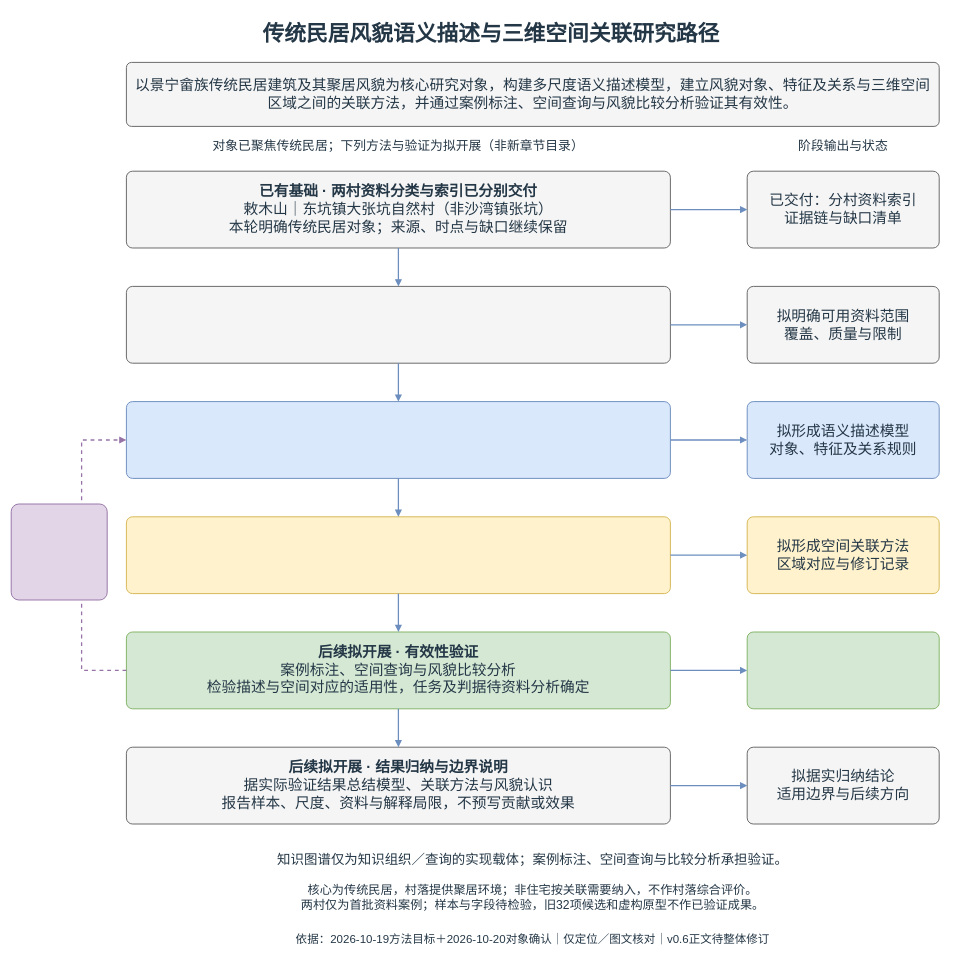
The diagram is 957 pixels wide and 963 high, and some of its shapes have lost their labels. Each missing label, with the box of its shape:
反馈优化 语义模型 区域关联 证据核查: (10, 503, 107, 600)
后续拟开展 · 三维空间区域关联方法 关联民居风貌对象、特征及关系与三维空间区域 以资料分析与试建检验可达程度，再优化模型和关联规则: (126, 516, 671, 594)
后续拟开展 · 传统民居的多尺度语义描述模型 村落：聚居环境｜组团：空间组合｜单体：建筑特征 按研究作用筛选特征；证据必录，字段与深度经试采修订: (126, 401, 671, 479)
后续拟开展 · 资料分析与实景三维条件核查 倾斜摄影实景模型用于民居及其聚居环境的资料分析 村落、文件、照片／位姿／点云／工程／坐标与可用性尚未核验: (126, 286, 671, 363)
拟形成验证记录 有效性证据与局限: (746, 631, 939, 709)
